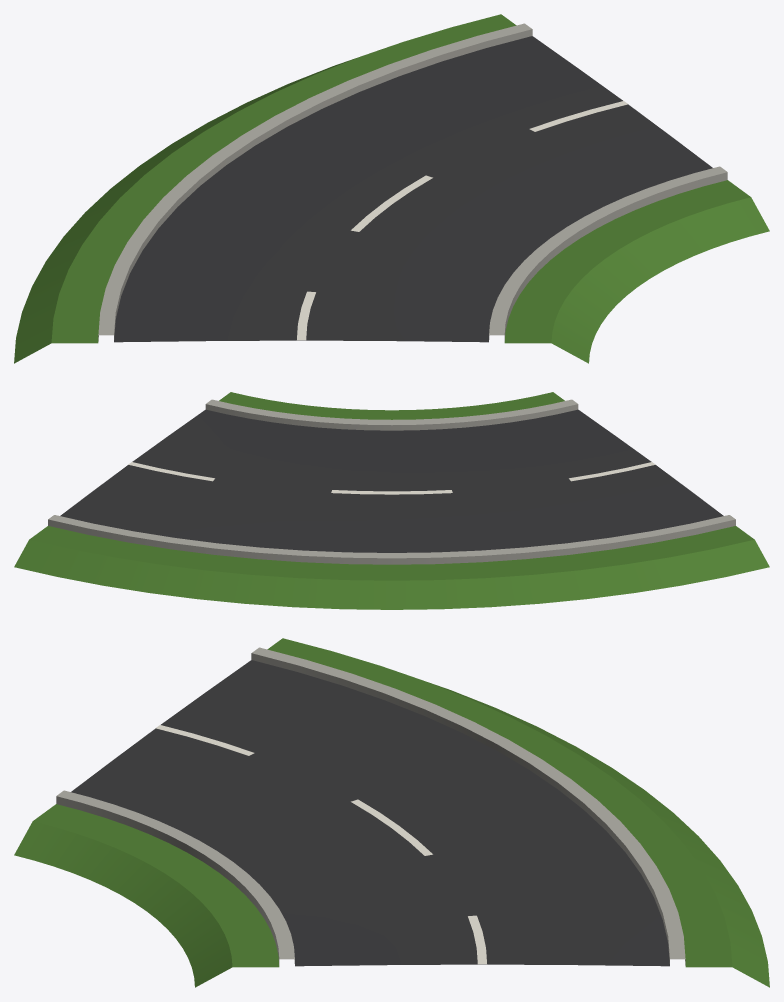
Rendered from road_bend_120_center.glb.
3 renders of one model, top to bottom at view 1: azimuth 30°, elevation 25°; view 2: azimuth 150°, elevation 25°; view 3: azimuth 270°, elevation 25°, orthographic. The views are drawn at different scales.
Parts seen in each view (by area): view 1: road_bend_120_center_lod0; view 2: road_bend_120_center_lod0; view 3: road_bend_120_center_lod0.
Boxes of the visible parts, bbox=[...] form: road_bend_120_center_lod0: bbox=[14, 14, 769, 363]; road_bend_120_center_lod0: bbox=[14, 392, 769, 609]; road_bend_120_center_lod0: bbox=[14, 638, 769, 987].
Size of what is drawn, in the model's own units: 12.98 by 0.5 by 12.1.
